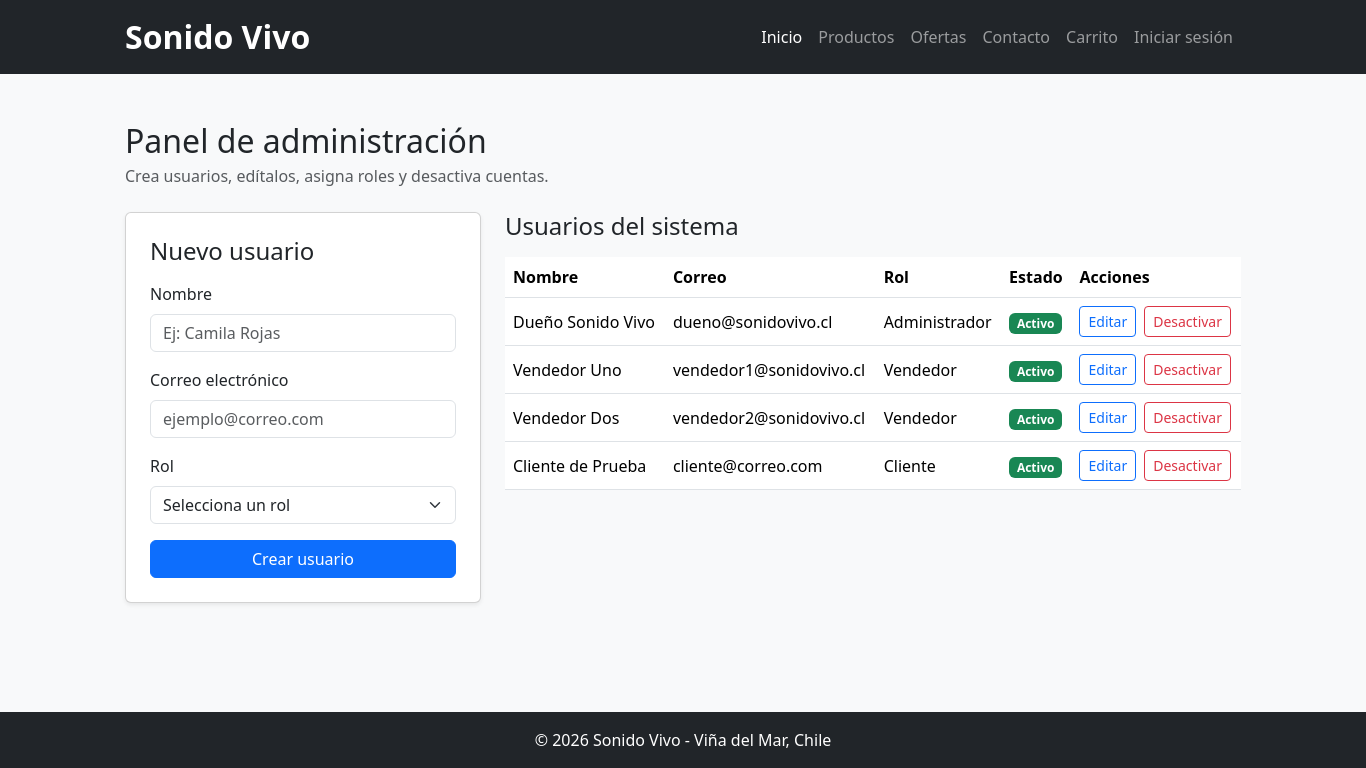
Test: AdminUsersPage › no deja desactivar al último administrador y muestra el error
The width and height of the screenshot is (1366, 768).
Click the button with aria-label "Desactivar a Dueño Sonido Vivo".
click(1188, 322)  # box [1144, 306, 1231, 337]
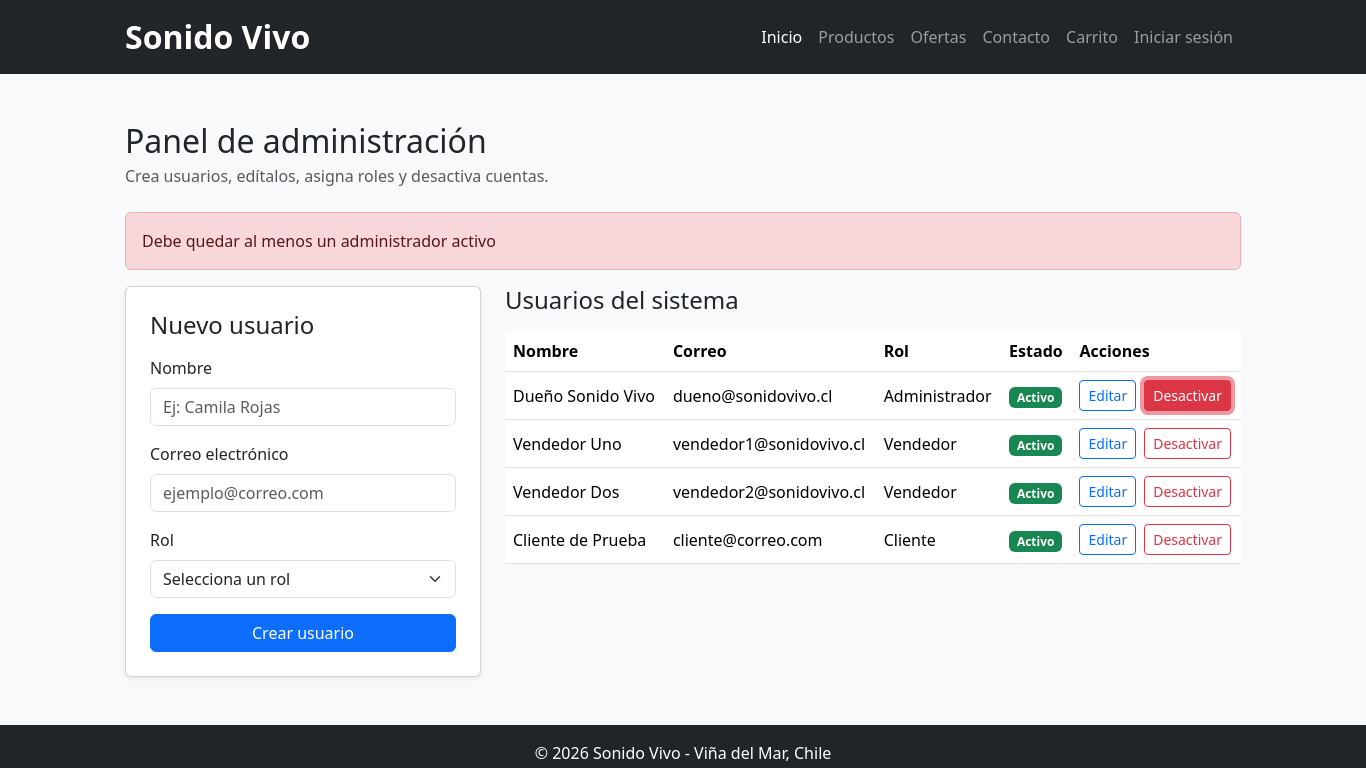
Expected: the message reads "Debe quedar al menos un administrador activo", [142, 230, 496, 252]
